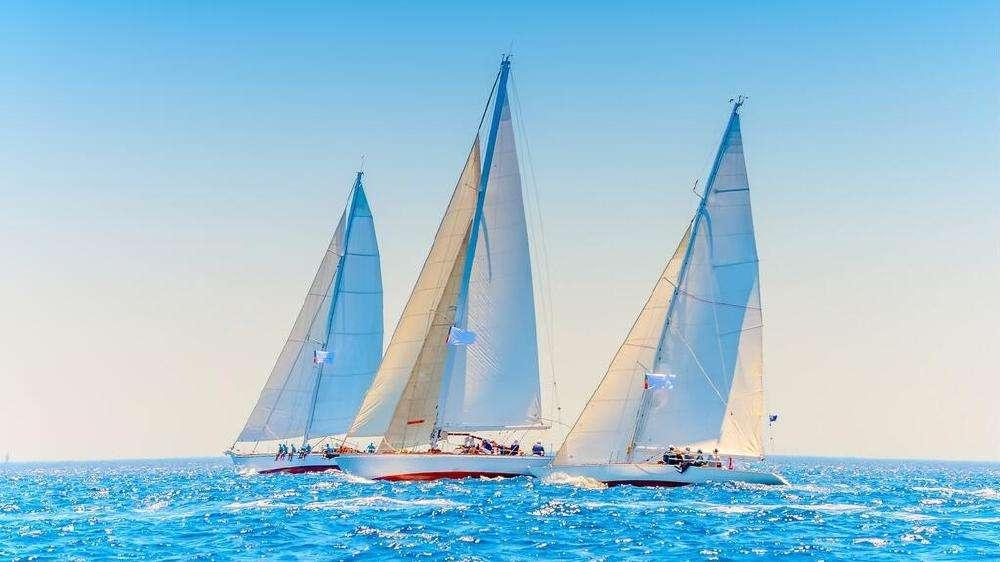fanchuan: (528, 96, 804, 491), (335, 46, 557, 490), (219, 171, 398, 483)
